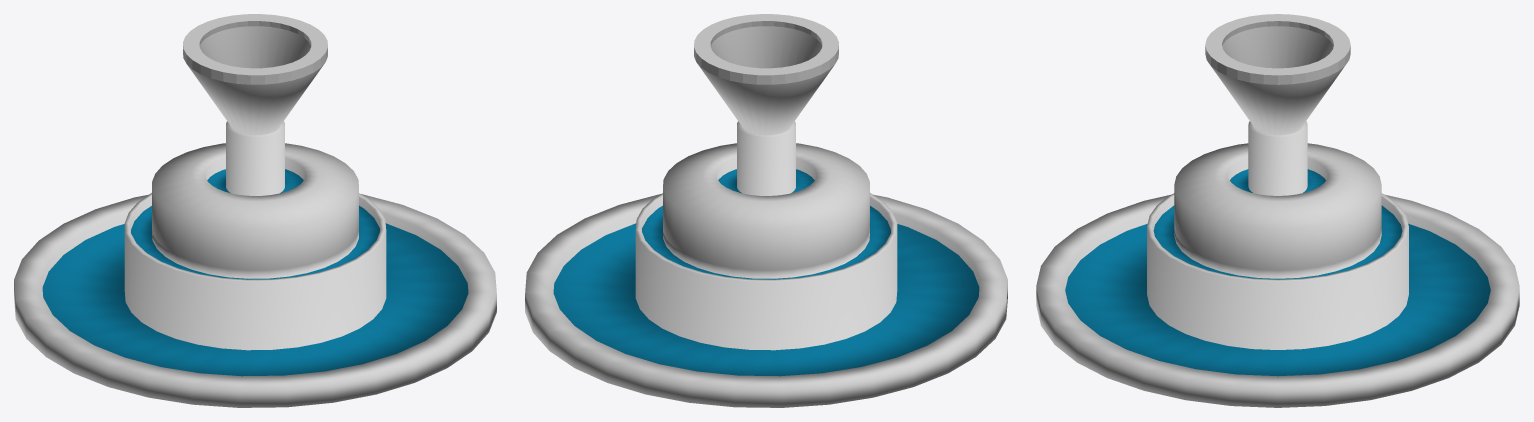
Rendered from Fountain.fbx.
3 renders of one model, left to right at view 1: azimuth 30°, elevation 25°; view 2: azimuth 150°, elevation 25°; view 3: azimuth 270°, elevation 25°, orthographic.
Parts seen in each view (by area): view 1: Cylinder; view 2: Cylinder; view 3: Cylinder.
Boxes of the visible parts, left/top/right/bottom form: Cylinder: left=14, top=14, right=496, bottom=407; Cylinder: left=525, top=14, right=1007, bottom=407; Cylinder: left=1036, top=14, right=1519, bottom=407.
Bounding box in the file's own units: 581 × 347 × 581.
